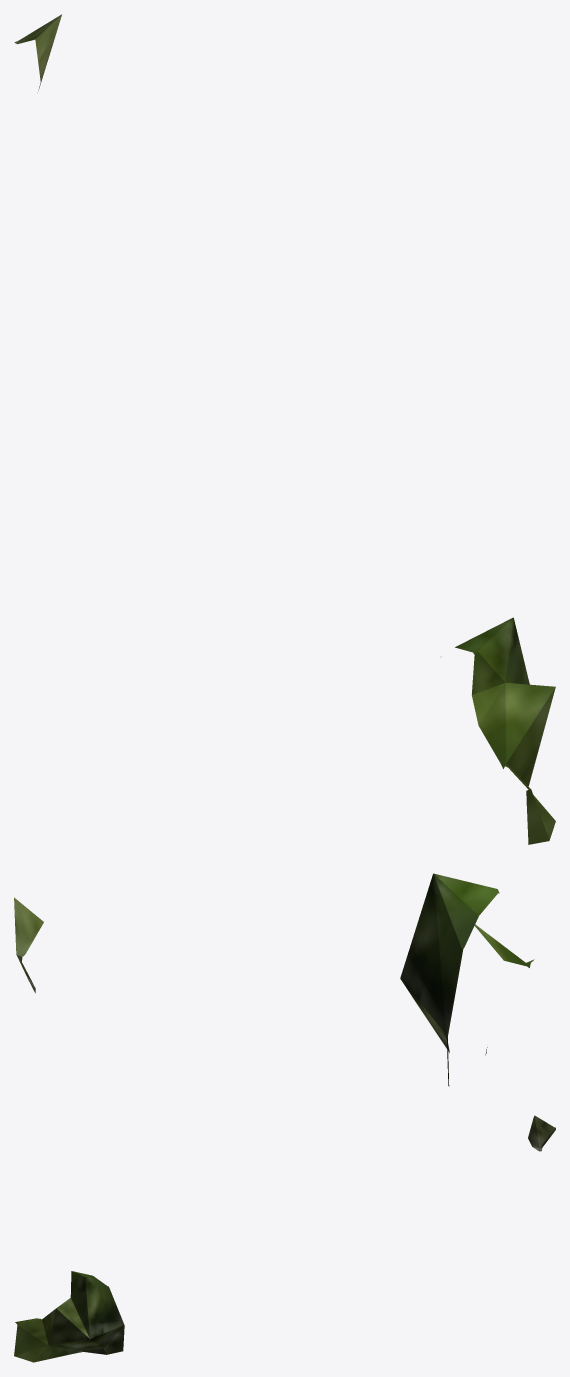
3 views of the same model, one above another, from view 1: azimuth 30°, elevation 25°; view 2: azimuth 150°, elevation 25°; view 3: azimuth 270°, elevation 25° (orthographic). The views are drawn at different scales.
Size of the model in its own units: 0.0733 by 0.4099 by 0.829.
1 material, 1 textured.
